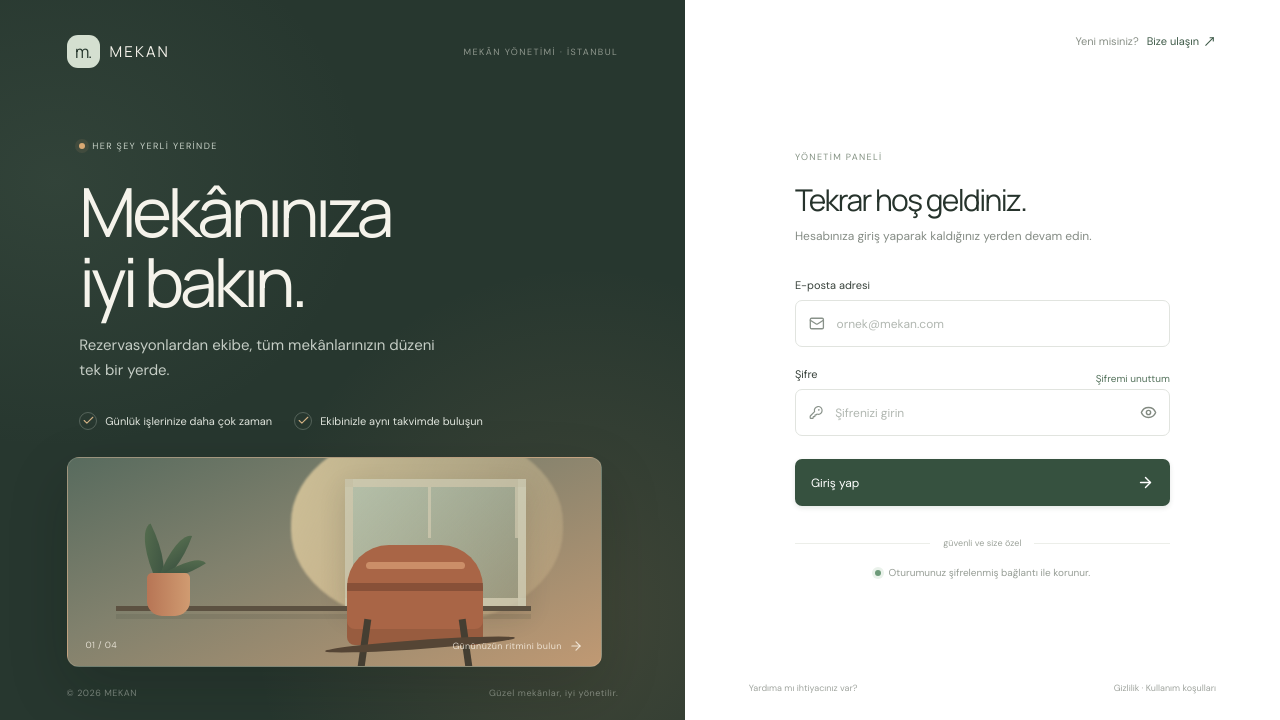
LoginScreen › submits credentials to the auth adapter and displays a localized provider error
The width and height of the screenshot is (1280, 720).
Type "ayse@example.com" into the field labelled "E-posta adresi" at [995, 324], box left=835, top=315, right=1156, bottom=333
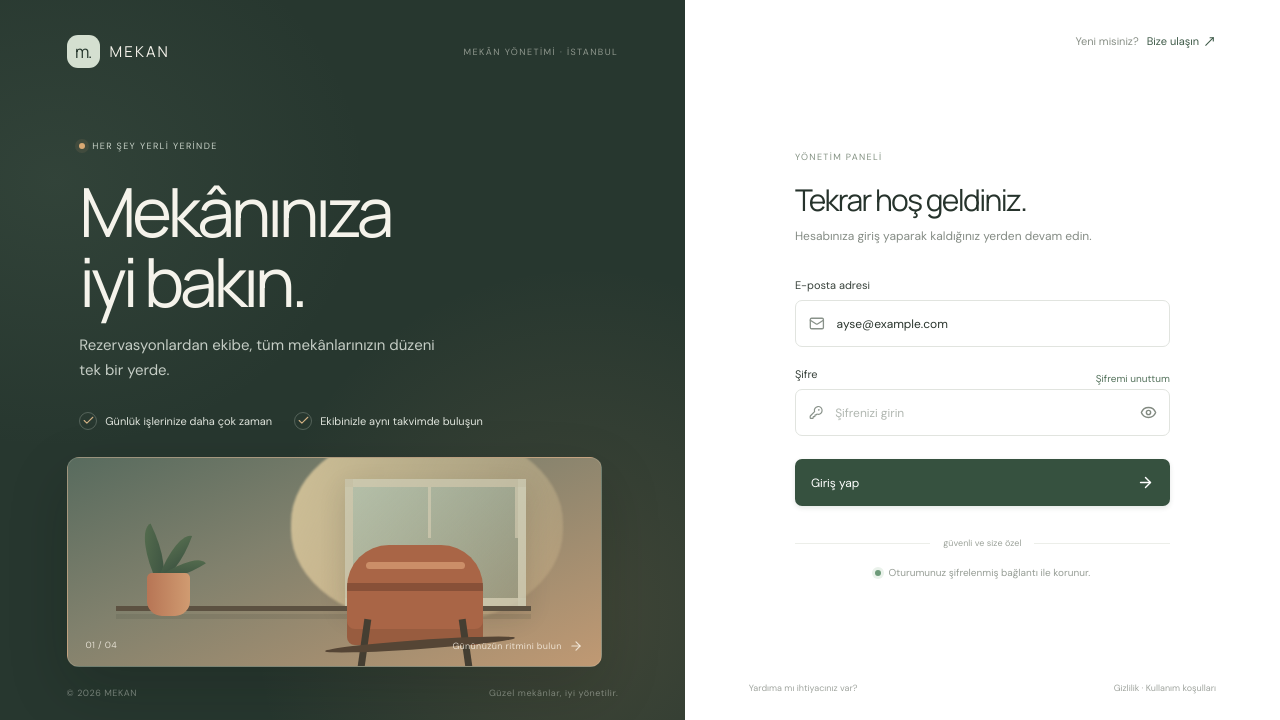
Type "guclu-sifre-123" into the password field labelled "Şifre" at [979, 413], box left=833, top=404, right=1125, bottom=422
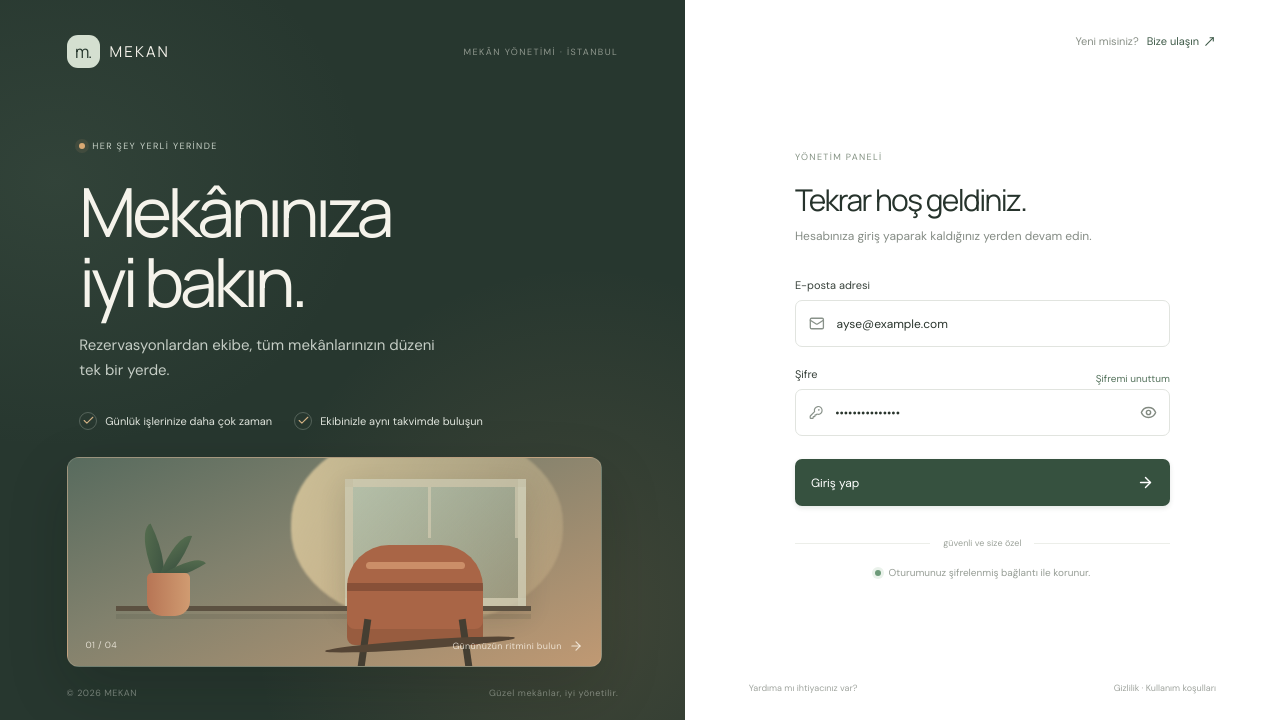
Click the button "Giriş yap" at [835, 483], box left=795, top=459, right=1170, bottom=506
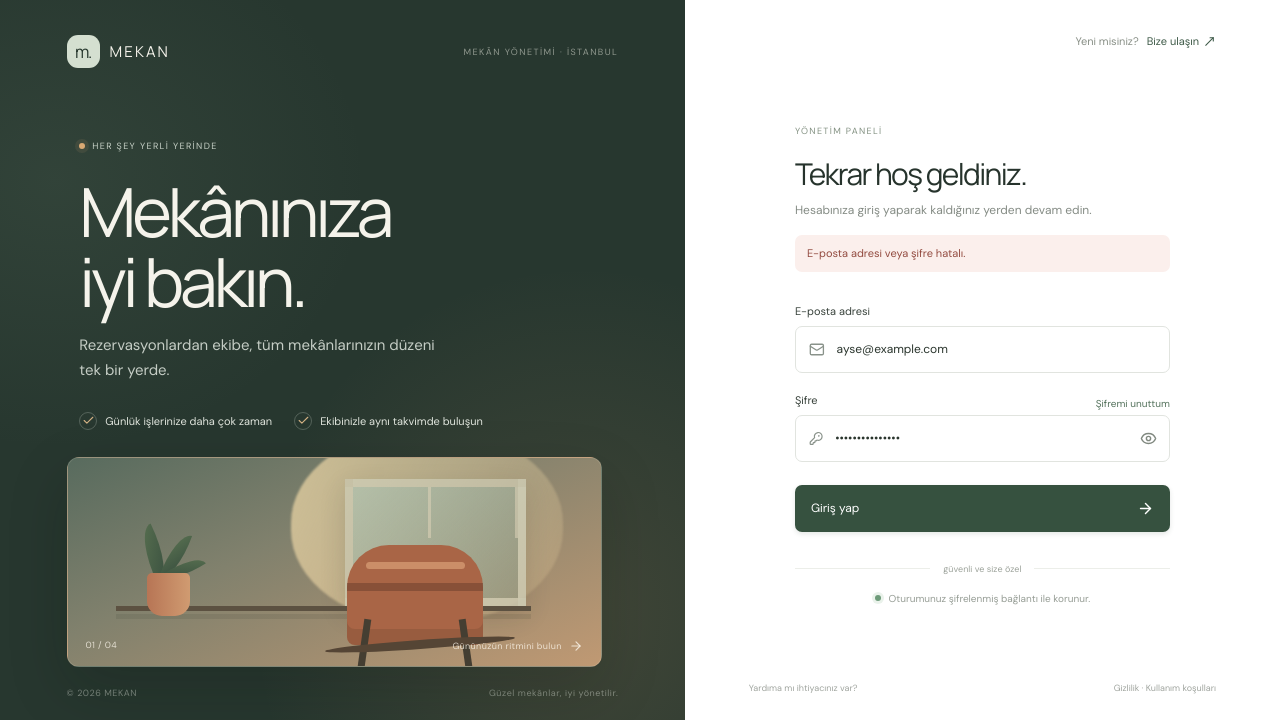
Check: the message reads "E-posta adresi veya şifre hatalı.", box left=807, top=246, right=965, bottom=260
